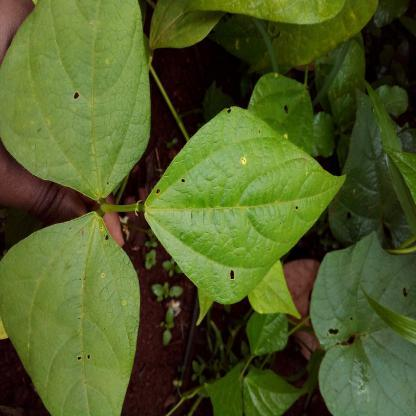Beans_Rust: (143, 108, 350, 304), (0, 0, 151, 201), (0, 213, 141, 416)
